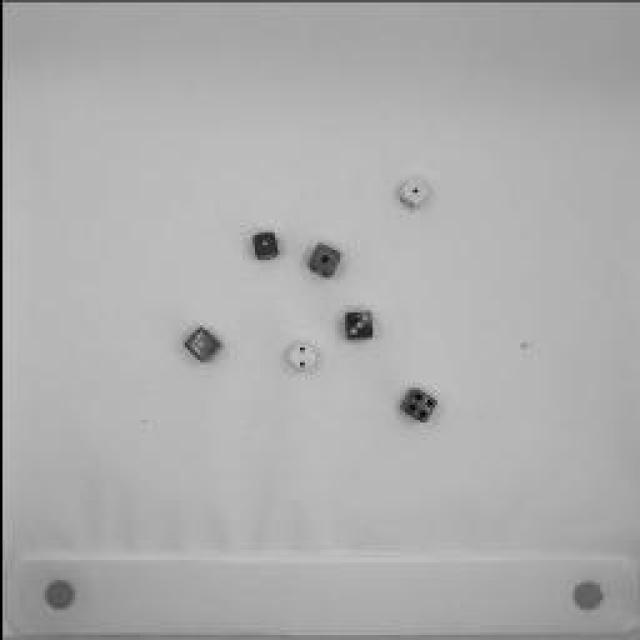dice_1: (178, 319, 220, 366), (390, 175, 435, 213), (305, 241, 345, 279), (246, 226, 282, 259)
dice_2: (281, 335, 319, 377)
dice_3: (336, 302, 374, 342)
dice_4: (395, 385, 440, 425)
